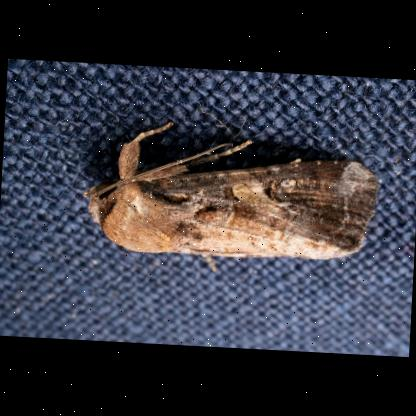Fall Armyworm Moth: (75, 115, 384, 283)
